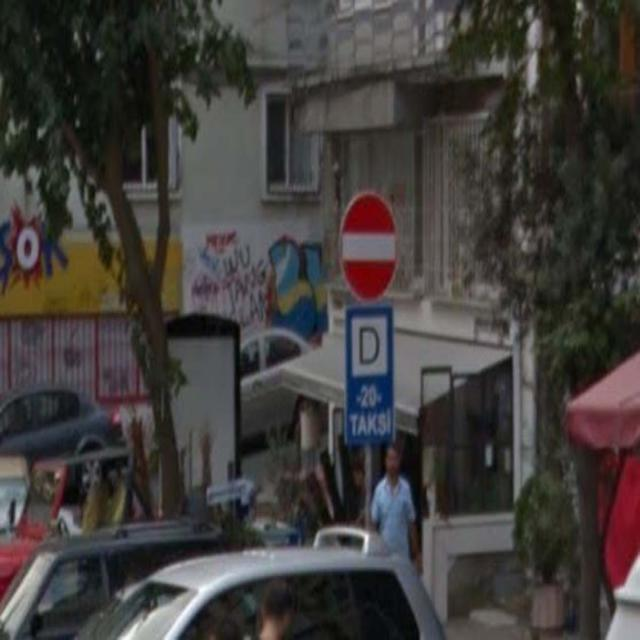durak: (346, 312, 393, 380)
girisyok: (340, 188, 396, 303)
